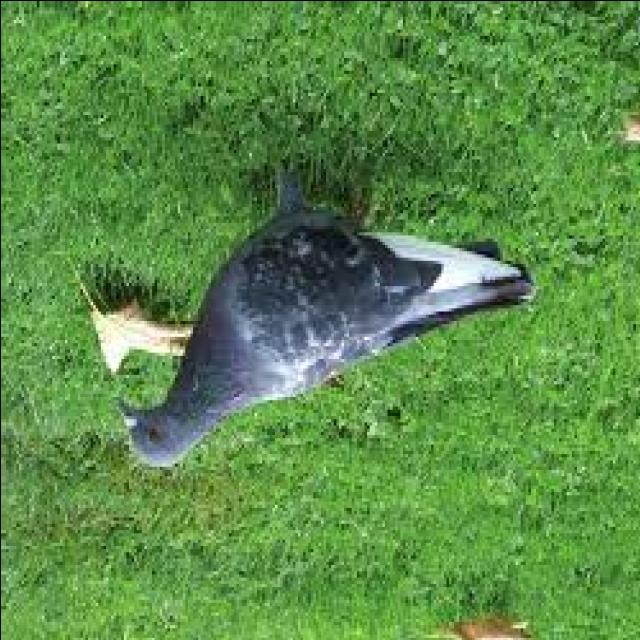pigeon: (110, 143, 550, 475)
